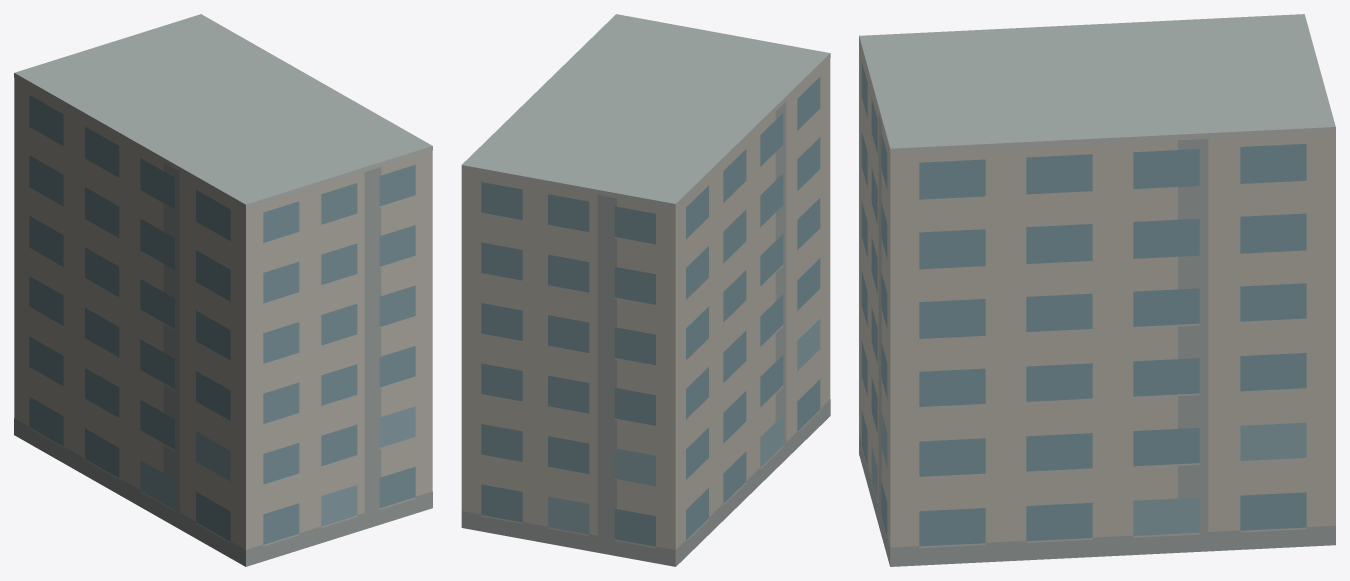
The model's file is survey-upis-32621475.glb.
3 renders of one model, left to right at view 1: azimuth 30°, elevation 25°; view 2: azimuth 150°, elevation 25°; view 3: azimuth 270°, elevation 25°, orthographic. The views are drawn at different scales.
Visible parts, largest first — view 1: survey-upis-32621475.tmp; view 2: survey-upis-32621475.tmp; view 3: survey-upis-32621475.tmp.
Boxes of the visible parts, <box> form: survey-upis-32621475.tmp: <box>14,14,432,566</box>; survey-upis-32621475.tmp: <box>461,14,830,566</box>; survey-upis-32621475.tmp: <box>859,14,1335,566</box>.
Size of the model in its own units: 12.54 by 18.15 by 18.76.
